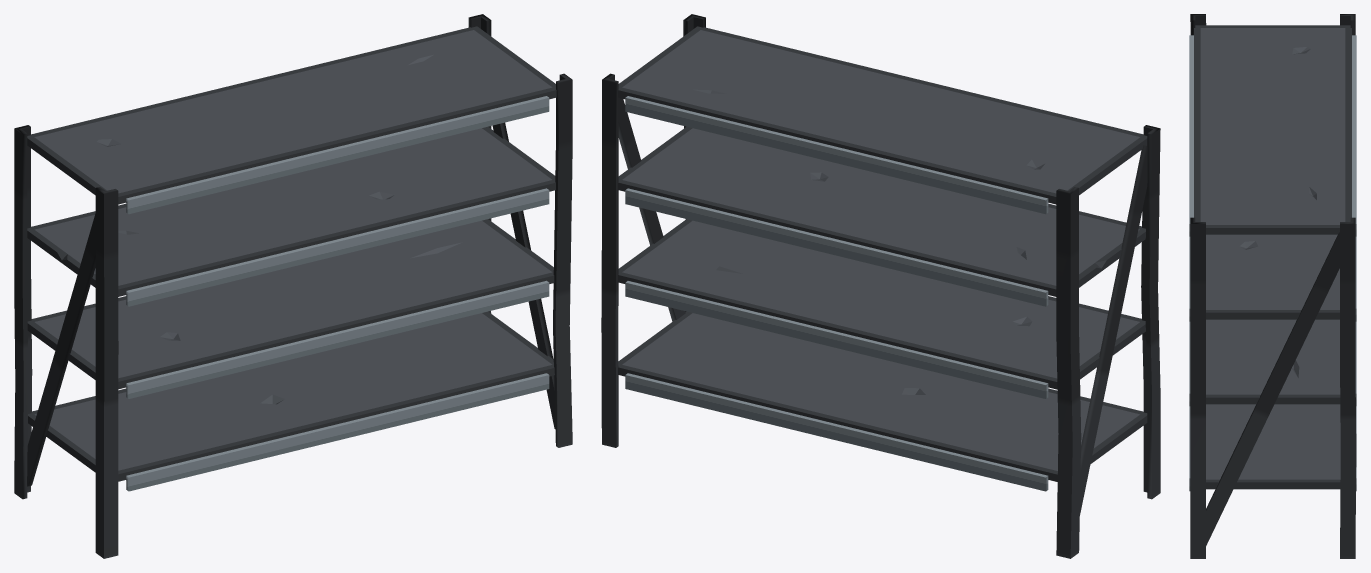
The model's file is SM_Prop_Shelf_03.fbx.
3 views of the same model, side by side, from view 1: azimuth 30°, elevation 25°; view 2: azimuth 150°, elevation 25°; view 3: azimuth 270°, elevation 25° (orthographic). The views are drawn at different scales.
Visible parts, largest first — view 1: SM_Prop_Shelf_03; view 2: SM_Prop_Shelf_03; view 3: SM_Prop_Shelf_03.
Boxes of the visible parts, x1=… form: SM_Prop_Shelf_03: x1=14, y1=14, x2=572, y2=558; SM_Prop_Shelf_03: x1=601, y1=14, x2=1160, y2=558; SM_Prop_Shelf_03: x1=1189, y1=14, x2=1356, y2=558.
Bounding box in the file's own units: 254 × 189 × 85.5.
